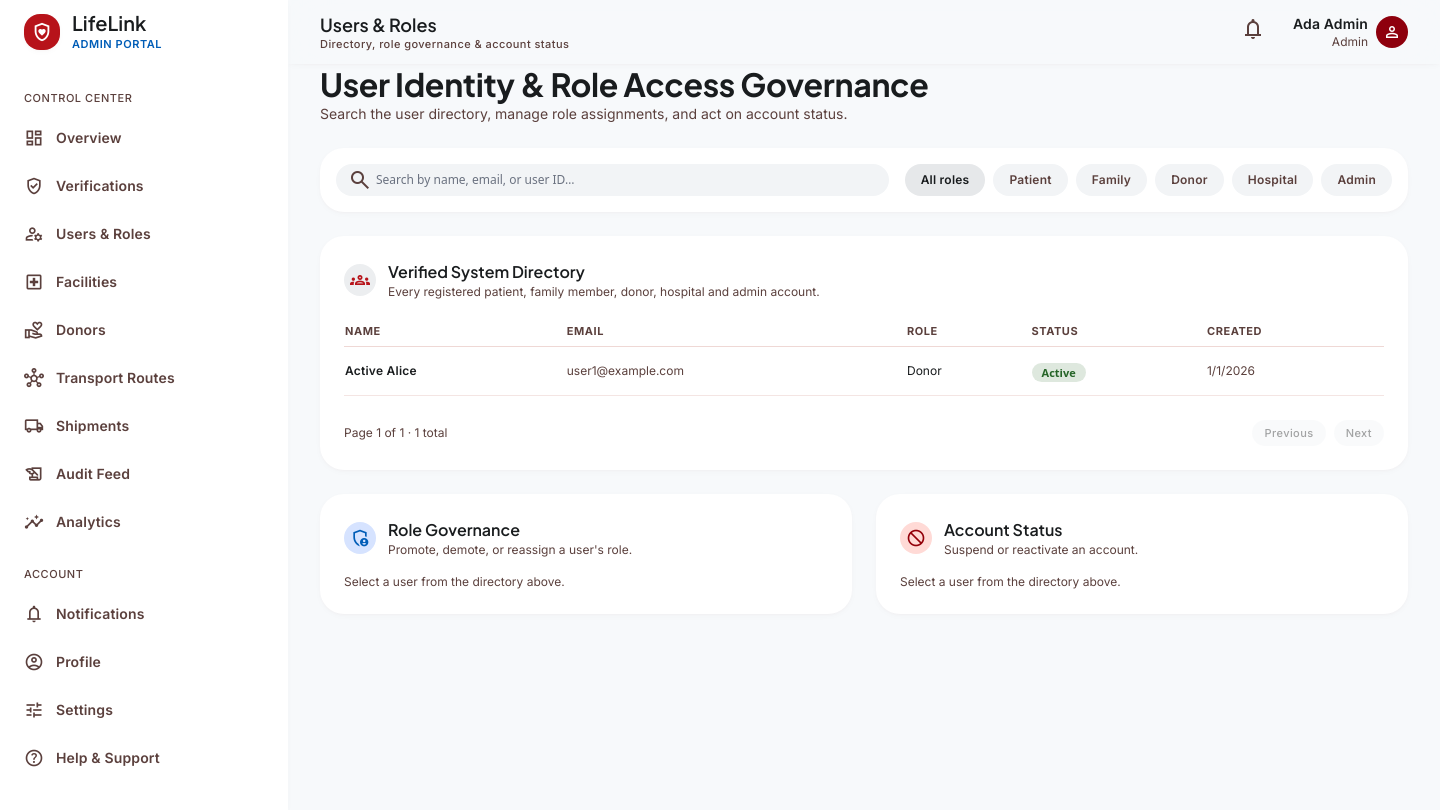
Test: UserManagement -- suspend/reactivate flow › only reflects a successful suspend after the mutation genuinely resolves and the directory refetches -- no optimistic row update
Click the text "Active Alice". click: (381, 370)
box: [344,346,566,396]
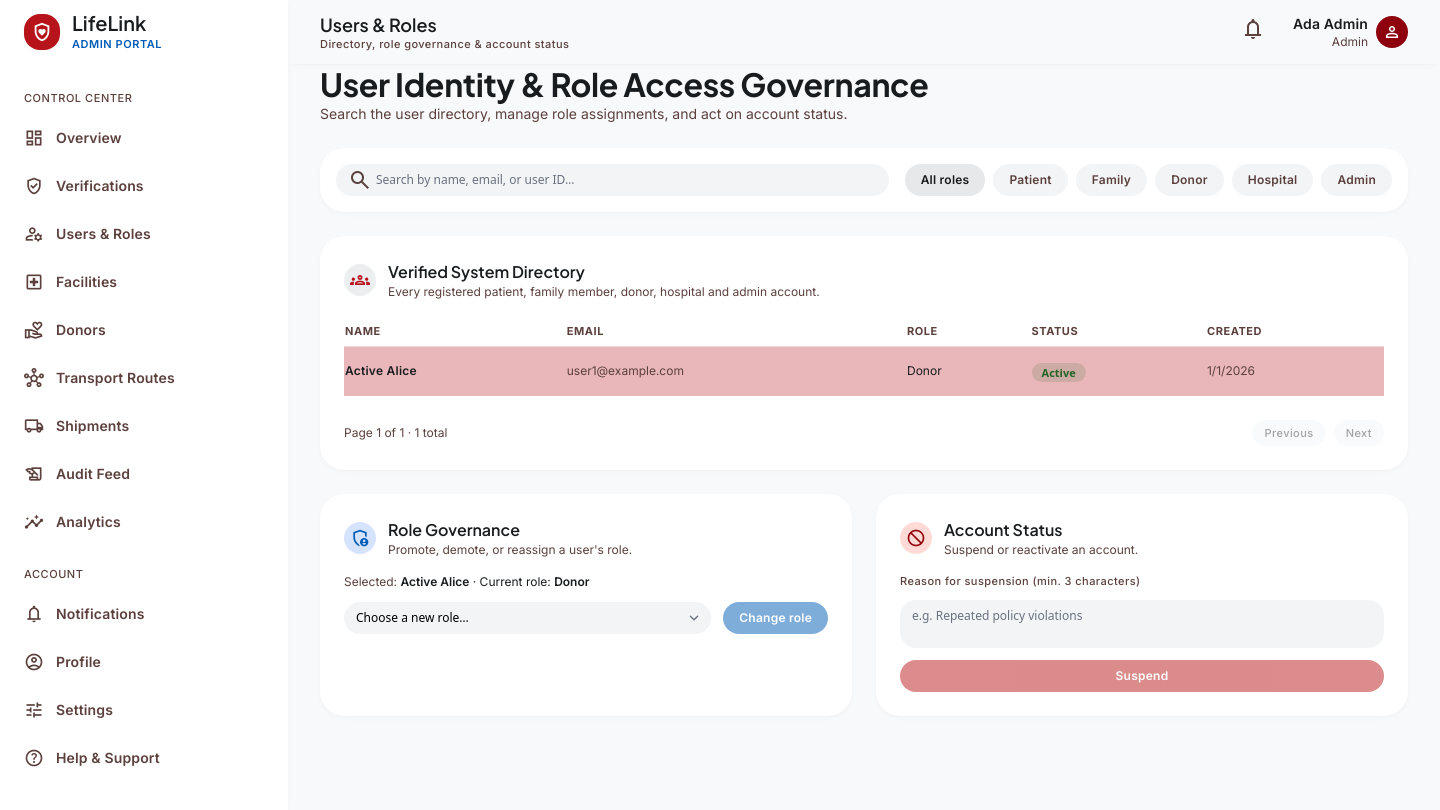
Type "Repeated abuse" into the text box labelled "Reason for suspension (min. 3 characters)". click: (1142, 624)
box: [900,600,1384,648]
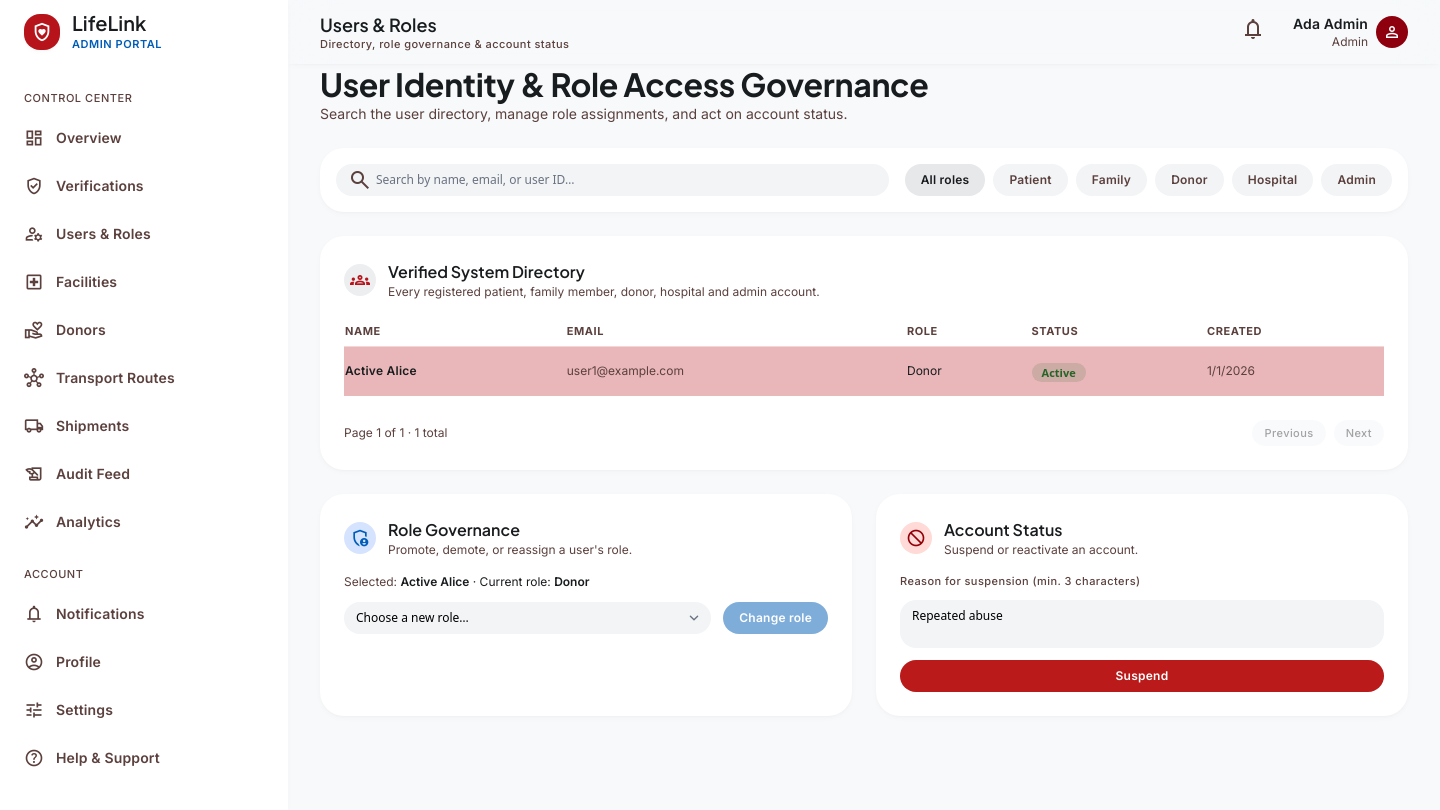
Click the button "Suspend". click: (1142, 676)
box: [900,660,1384,692]
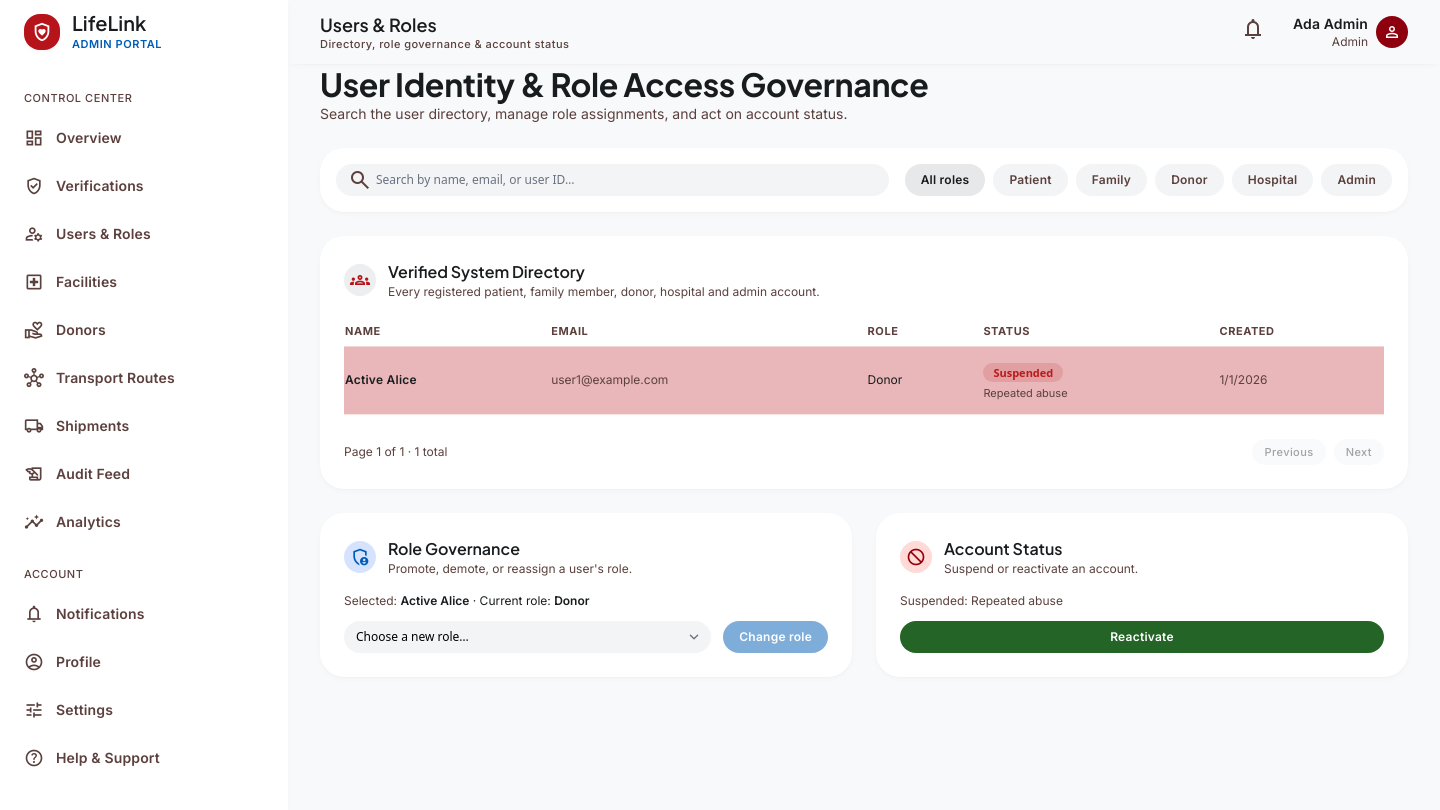
Result: the text "Suspended" is shown at [983,363,1063,382]
